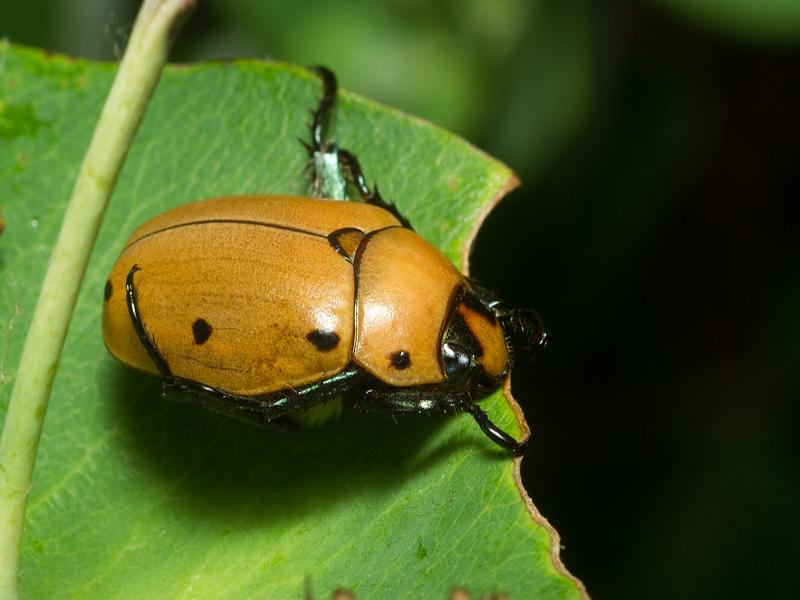Spiny_beetle: (57, 185, 549, 468)
